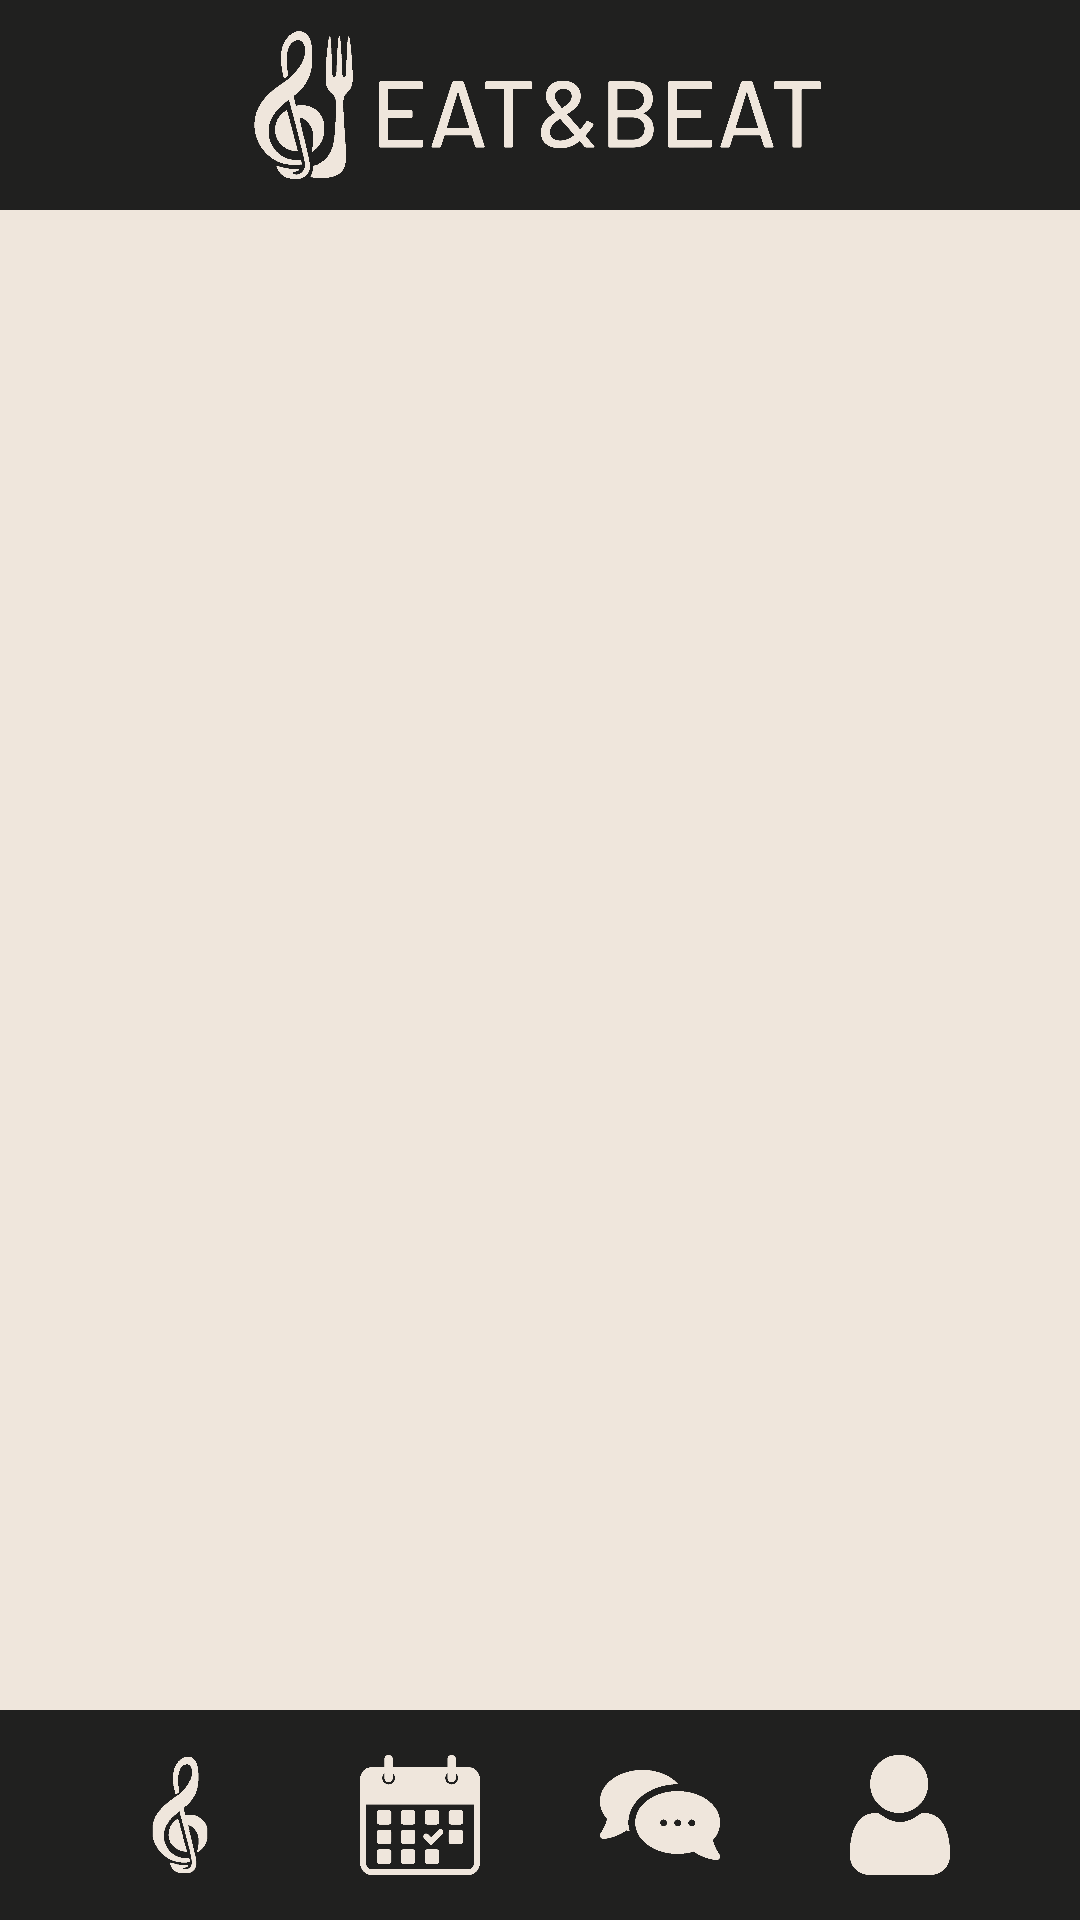

Where icons sit on this 1080 × 1920 app screen, as (x1, y1, x2, y2):
chat: (600, 1770, 720, 1860)
user: (850, 1755, 950, 1875)
